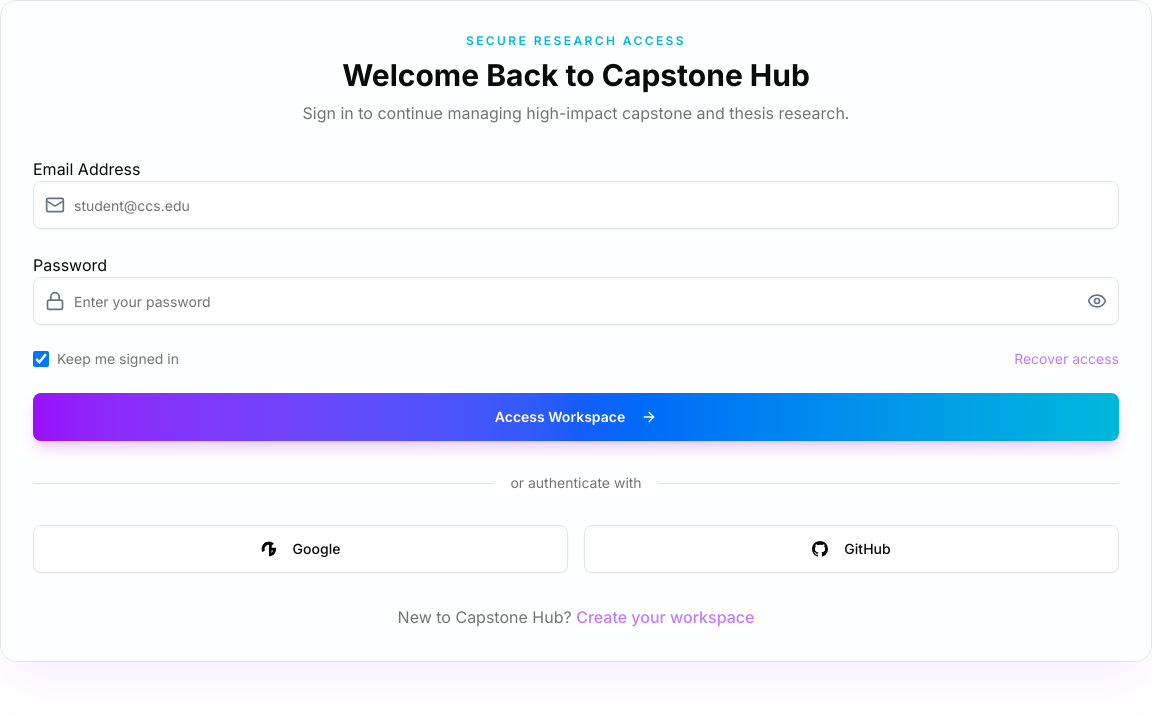
Test case: Login Component › TC-LOGIN-004: Empty login fields
The image size is (1152, 720).
Click the button "Access Workspace" at (576, 417), box [33, 393, 1119, 441]
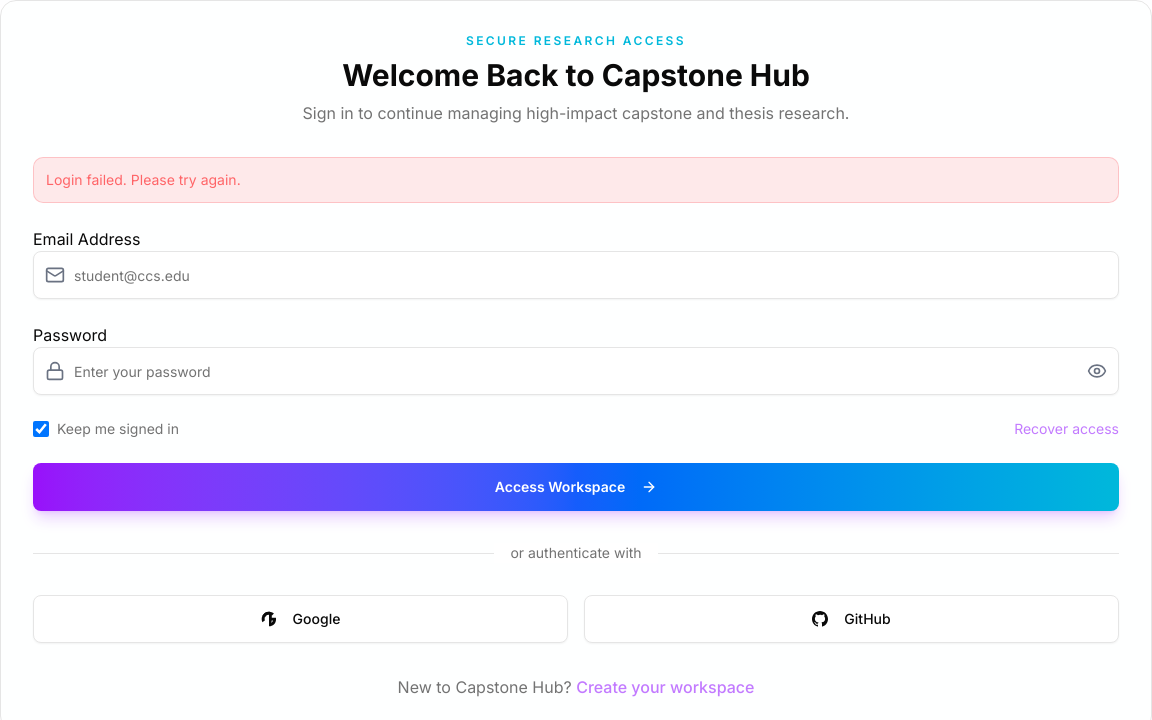
Now the text "Login failed. Please try again." is shown, box [33, 157, 1119, 203]
